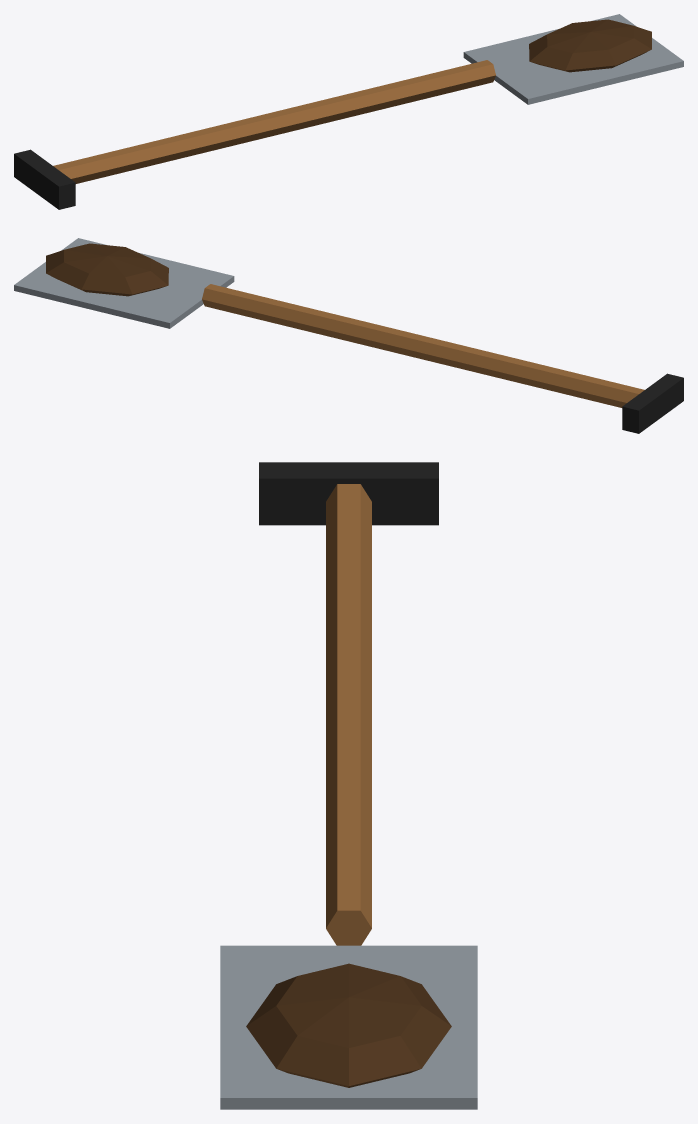
The model's file is muddy_shovel.glb.
3 views of the same model, one above another, from view 1: azimuth 30°, elevation 25°; view 2: azimuth 150°, elevation 25°; view 3: azimuth 270°, elevation 25° (orthographic). The views are drawn at different scales.
Parts seen in each view (by area): view 1: handle_handle_wood, blade_blade_steel, mud_fresh_mud, grip_grip_black; view 2: handle_handle_wood, blade_blade_steel, mud_fresh_mud, grip_grip_black; view 3: blade_blade_steel, handle_handle_wood, mud_fresh_mud, grip_grip_black.
Part boxes in pixels (x1,y1,x2,y2): handle_handle_wood: (53,60,495,183); blade_blade_steel: (463,14,683,104); mud_fresh_mud: (529,19,651,72); grip_grip_black: (14,149,75,209); handle_handle_wood: (202,284,644,407); blade_blade_steel: (14,238,234,328); mud_fresh_mud: (46,243,168,296); grip_grip_black: (622,373,683,433); blade_blade_steel: (220,945,477,1109); handle_handle_wood: (326,484,371,945); mud_fresh_mud: (246,963,451,1087); grip_grip_black: (259,462,438,525).
Size of the model in its own units: 1.11 by 0.05 by 0.2.
